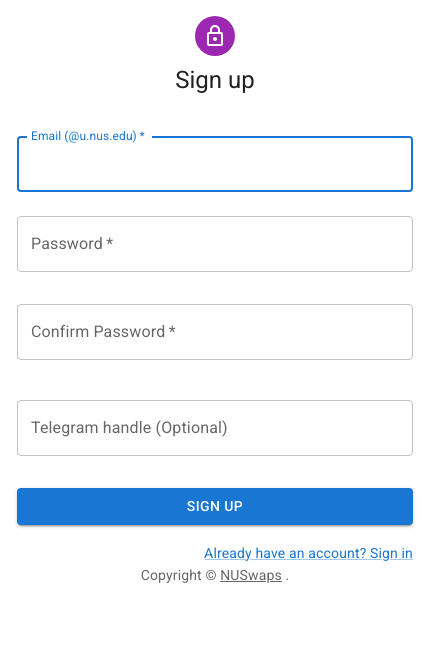
Test: Signup page › renders error text when fields are empty
Click the button "Sign Up" at point(215, 506), box [17,488,413,524]
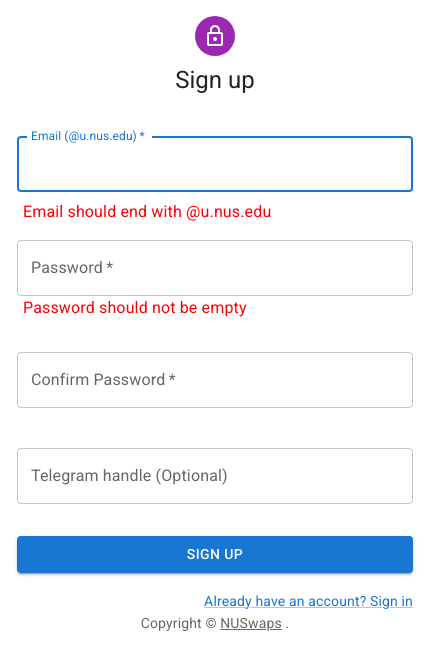
expect the text "Password should not be empty" is shown: met, box [23,298,247,317]
